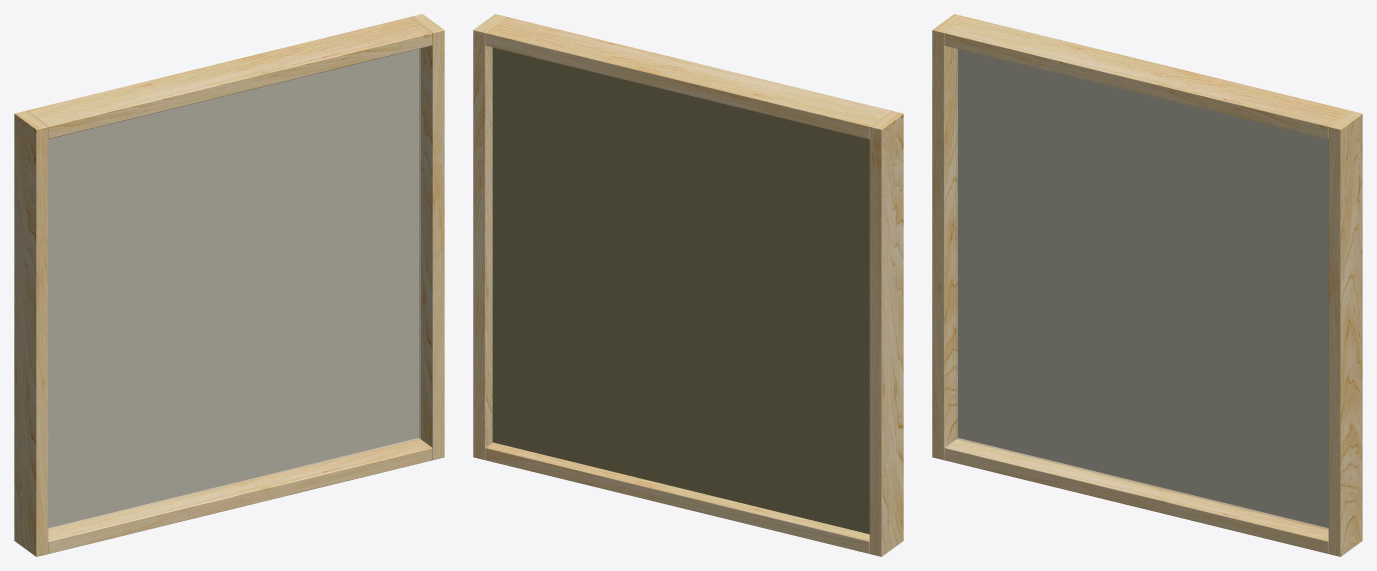
The model's file is 17 - TURBOKASTANJ - 鏡子，75x75 公分 IKEA 線上購物.glb.
3 renders of one model, left to right at view 1: azimuth 30°, elevation 25°; view 2: azimuth 150°, elevation 25°; view 3: azimuth 330°, elevation 25°, orthographic.
Size of the model in its own units: 0.75 by 0.75 by 0.07.
3 materials, 1 textured.
